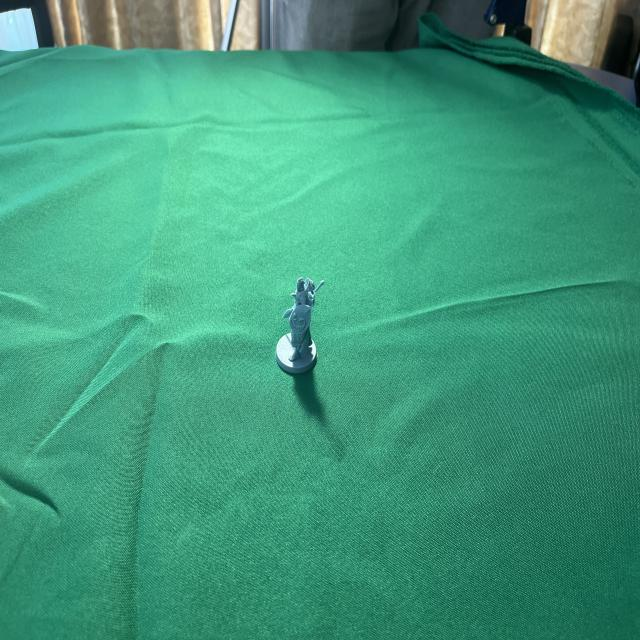isis_follower: (270, 272, 321, 377)
